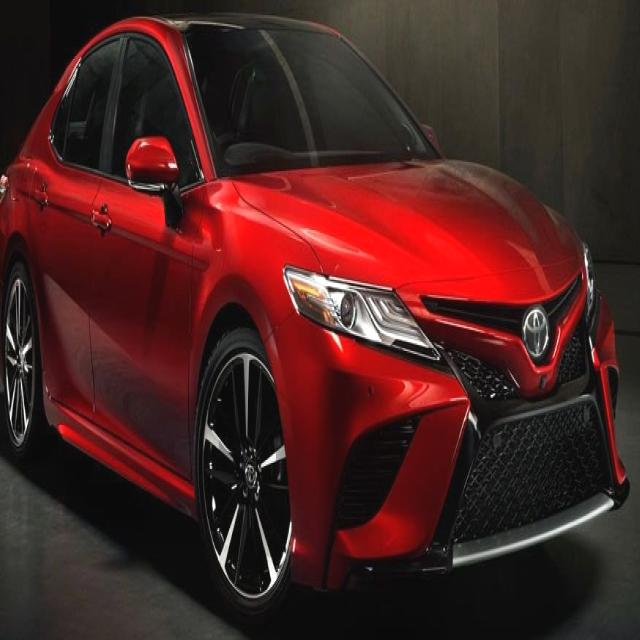red: (0, 12, 629, 640)
